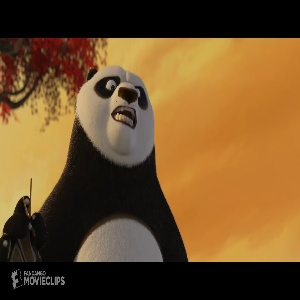po: (3, 62, 192, 261)
